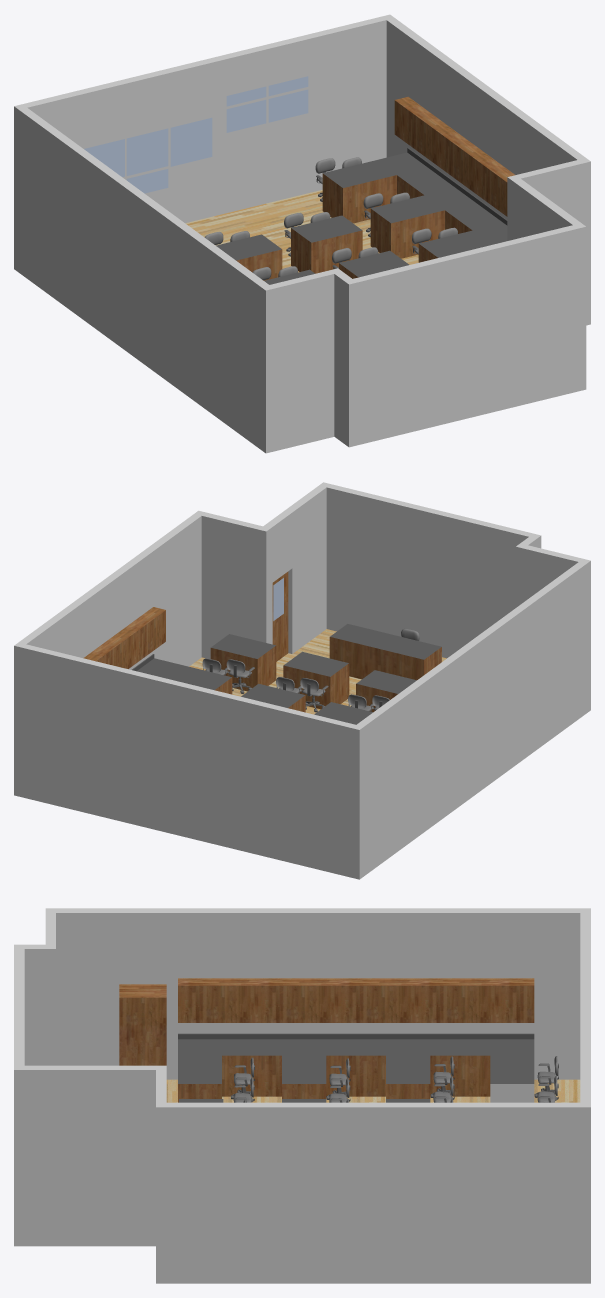
The model's file is room.glb.
The picture shows the model from 3 angles, top to bottom: view 1: azimuth 30°, elevation 25°; view 2: azimuth 150°, elevation 25°; view 3: azimuth 270°, elevation 25°; orthographic projection. The views are drawn at different scales.
Visible parts, largest first — view 1: 12d61fc7-0a54-45d5-bcbe-d41f851ccef9; view 2: 12d61fc7-0a54-45d5-bcbe-d41f851ccef9; view 3: 12d61fc7-0a54-45d5-bcbe-d41f851ccef9.
Part boxes in pixels (x1,y1,x2,y2): 12d61fc7-0a54-45d5-bcbe-d41f851ccef9: (14, 14, 590, 453); 12d61fc7-0a54-45d5-bcbe-d41f851ccef9: (14, 482, 590, 879); 12d61fc7-0a54-45d5-bcbe-d41f851ccef9: (14, 908, 590, 1283).
Bounding box in the file's own units: 8.94 × 3.7 × 10.97.
8 materials, 2 textured.
